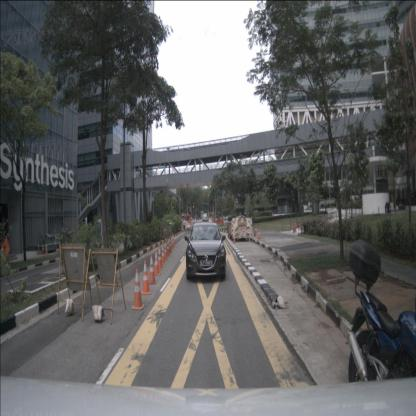human-pedestrian-adult: (183, 218, 186, 231)
movable_object-trafficcone: (131, 268, 145, 310), (140, 259, 152, 295), (147, 254, 157, 284), (152, 248, 161, 276), (155, 244, 164, 271), (160, 242, 166, 264), (166, 240, 170, 256), (168, 237, 172, 252), (258, 227, 262, 240), (171, 236, 174, 250), (172, 235, 175, 248), (233, 232, 236, 244), (45, 245, 48, 254), (59, 242, 61, 252), (38, 244, 40, 254), (293, 224, 295, 233)
vehicle-car: (186, 222, 226, 280)
vehicle-motorcycle: (346, 239, 416, 395)
